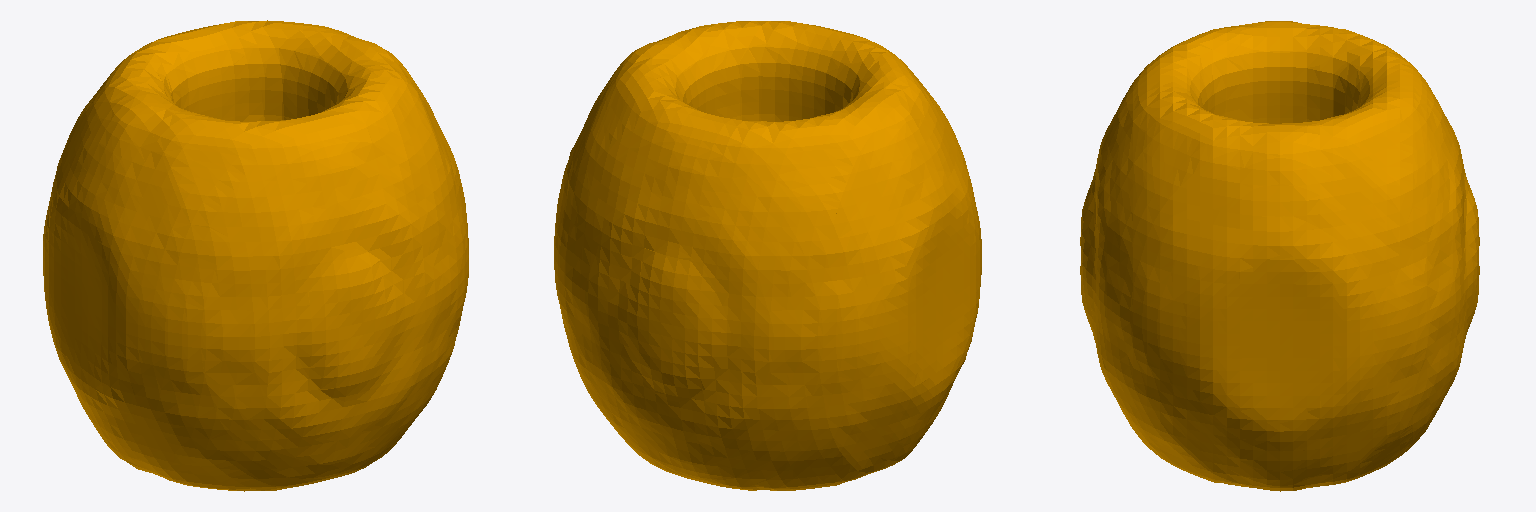
URDF robot description (object):
<?xml version="1.0"?>
        <robot name="object">
          <link name="object">
            <visual>
              <origin xyz="0.0 0.0 0.0"/>
              <geometry>
                <mesh filename="B2.stl" scale="1.00 1.00 1.00"/>
              </geometry>
            </visual>
            <collision>
              <origin xyz="0.0 0.0 0.0"/>
              <geometry>
                <mesh filename="B2.stl" scale="1.00 1.00 1.00"/>
              </geometry>
            </collision>
          </link>
        </robot>

--- Facts derived from the render (not from the file) ---
The picture shows the robot from 3 angles, left to right: view 1: azimuth 30°, elevation 25°; view 2: azimuth 150°, elevation 25°; view 3: azimuth 270°, elevation 25°; orthographic projection.
Model object with 1 links and 0 joints (none), rooted at object, posed every joint at zero.
Links seen in each view (by area): view 1: object; view 2: object; view 3: object.
Link boxes in pixels (x1,y1,x2,y2): object: (43, 20, 468, 491); object: (554, 21, 981, 490); object: (1080, 21, 1479, 491).
Size in the robot's own frame: 0.0998 by 0.1 by 0.0997 metres.
1 mesh visuals loaded from 1 distinct referenced files (1 binary STL).